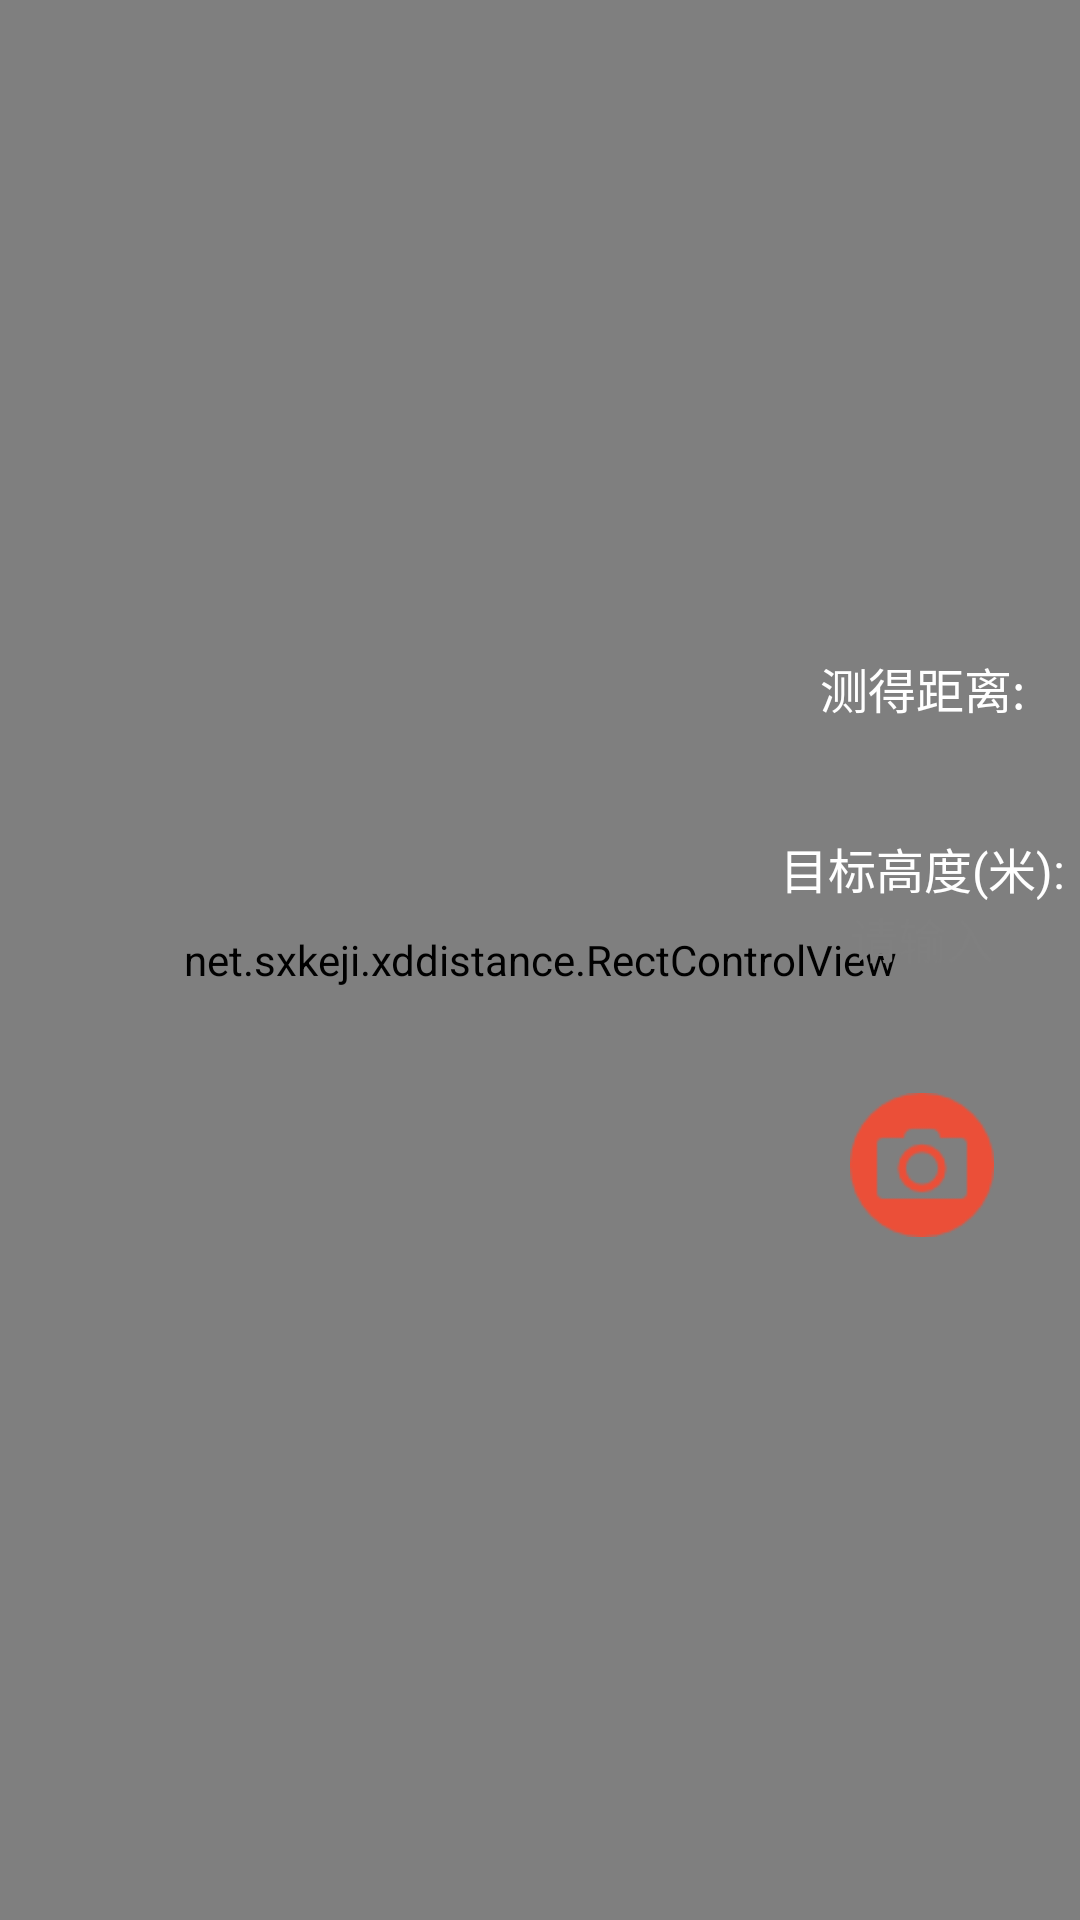

Named icons in this screenshot (1080px×1920px) and their centers, (x=x, y=y):
take photo: (x=922, y=1165)
